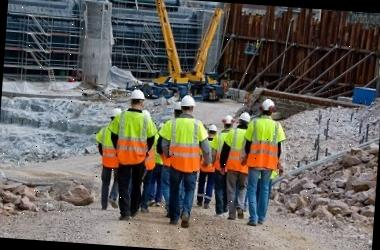helmet: (128, 88, 148, 103), (180, 94, 196, 109), (259, 98, 276, 112), (238, 111, 251, 124), (109, 106, 121, 119), (172, 99, 182, 112), (223, 114, 233, 126), (208, 124, 218, 132)
wear: (110, 110, 152, 163), (165, 118, 203, 173), (248, 118, 282, 170), (224, 126, 250, 172), (99, 124, 124, 166), (212, 130, 228, 167)
